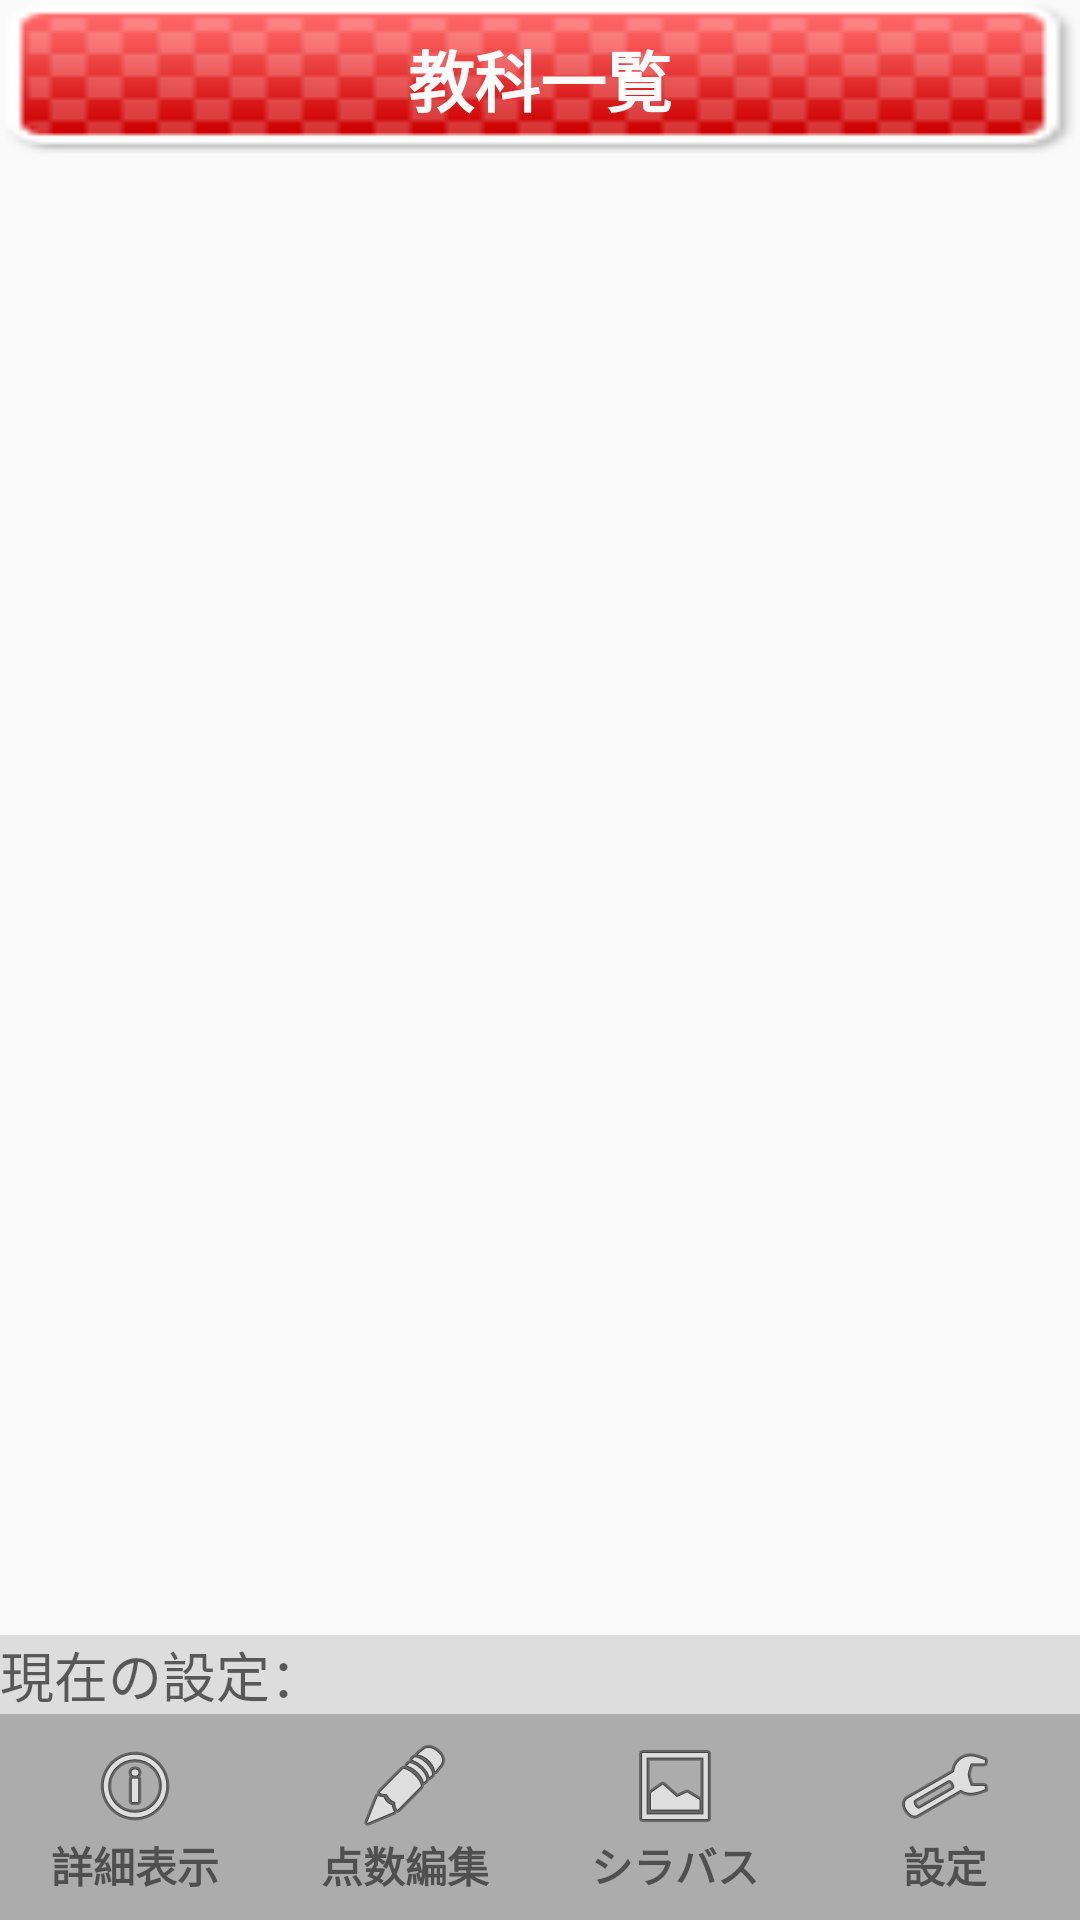

Icons on this 1080px×1920px Android screen, each with its box as (x1, y1, x2, y2):
gallery: (639, 1750, 711, 1822)
manage: (902, 1753, 988, 1819)
